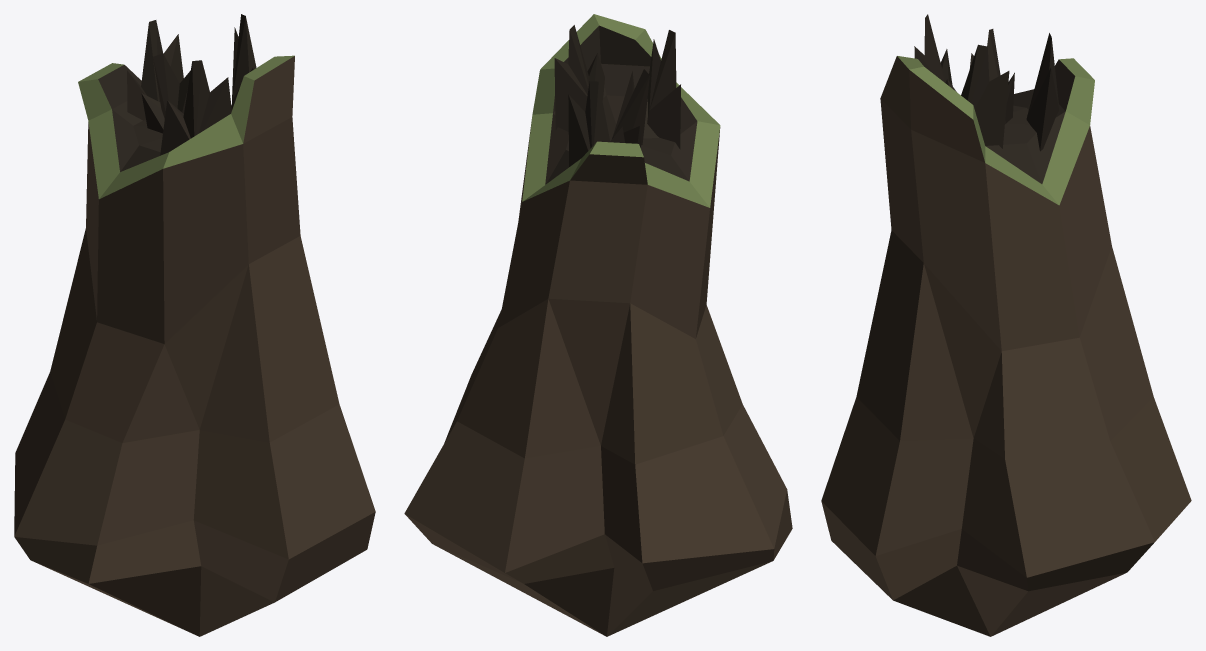
File: synty-tree-stump-03.gltf
3 renders of one model, left to right at view 1: azimuth 30°, elevation 25°; view 2: azimuth 150°, elevation 25°; view 3: azimuth 270°, elevation 25°, orthographic. The views are drawn at different scales.
Parts seen in each view (by area): view 1: SM_Tree_Stump_03; view 2: SM_Tree_Stump_03; view 3: SM_Tree_Stump_03.
Boxes of the visible parts, left/top/right/bottom form: SM_Tree_Stump_03: left=14, top=14, right=375, bottom=636; SM_Tree_Stump_03: left=404, top=14, right=792, bottom=636; SM_Tree_Stump_03: left=821, top=14, right=1191, bottom=636.
Size of the model in its own units: 0.7921 by 1.36 by 0.7492.
1 material, 1 textured.
